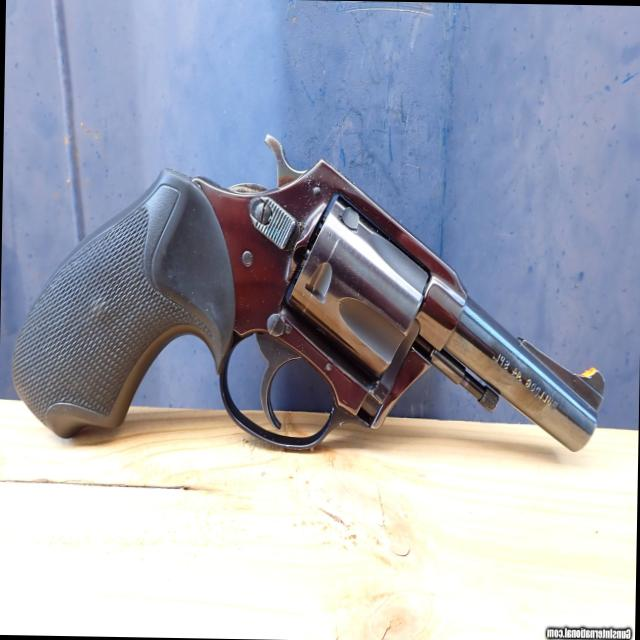Gun: (4, 154, 640, 479)
